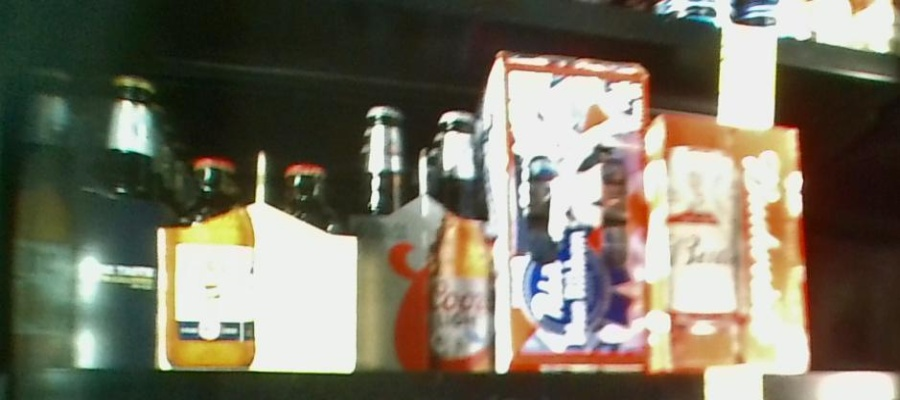bottle: (492, 51, 649, 380), (648, 112, 813, 370), (162, 152, 357, 370), (357, 99, 496, 376), (67, 72, 157, 369), (1, 69, 66, 366)
